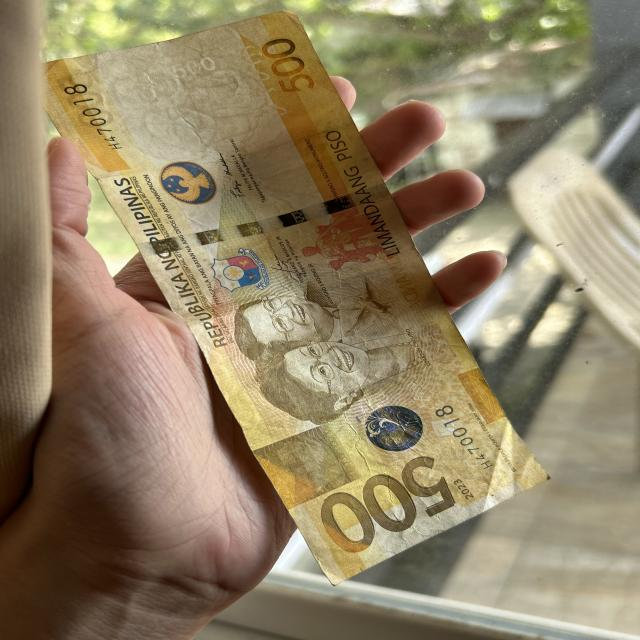concealed_value: (253, 426, 359, 511)
optically_variable_device: (363, 406, 429, 454)
see_through_mark: (240, 46, 295, 116)
value_watermark: (172, 56, 225, 82)
watermark: (90, 54, 285, 161)
